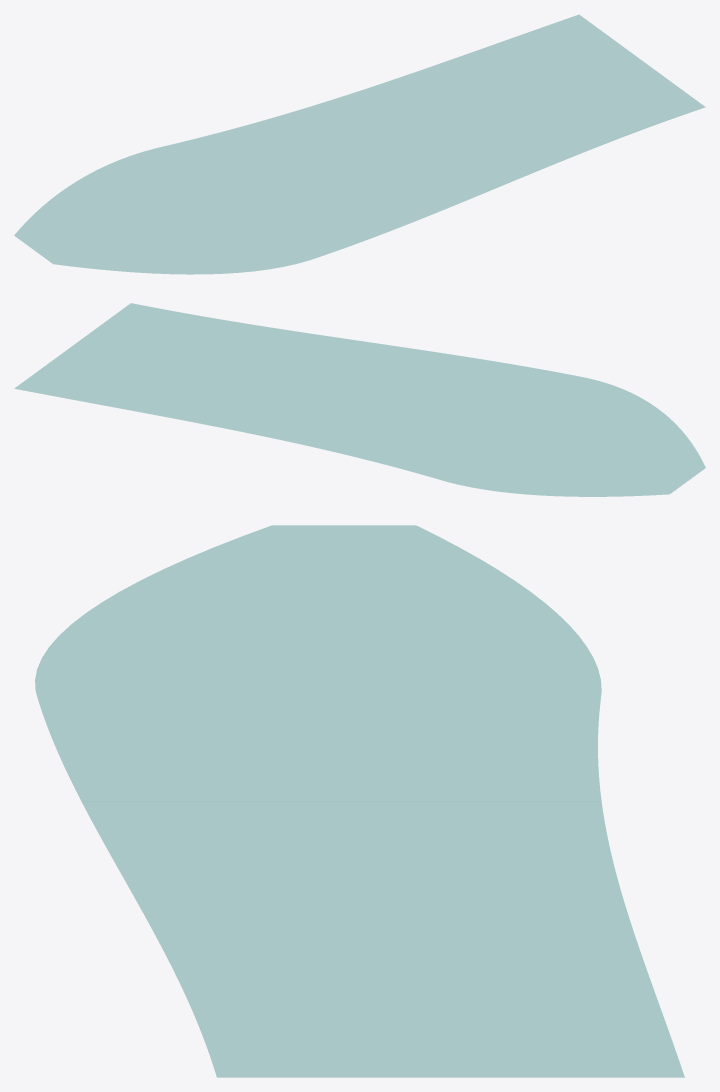
File: EAU061_eau_calme.glb
The picture shows the model from 3 angles, top to bottom: view 1: azimuth 30°, elevation 25°; view 2: azimuth 150°, elevation 25°; view 3: azimuth 270°, elevation 25°; orthographic projection. The views are drawn at different scales.
Parts seen in each view (by area): view 1: world; view 2: world; view 3: world.
Boxes of the visible parts, box(x1,y1,x2,y2) form: world: box(14, 14, 705, 274); world: box(14, 303, 705, 496); world: box(35, 525, 684, 1077).
Size of the model in its own units: 4.05 by 0.0737 by 1.94.
